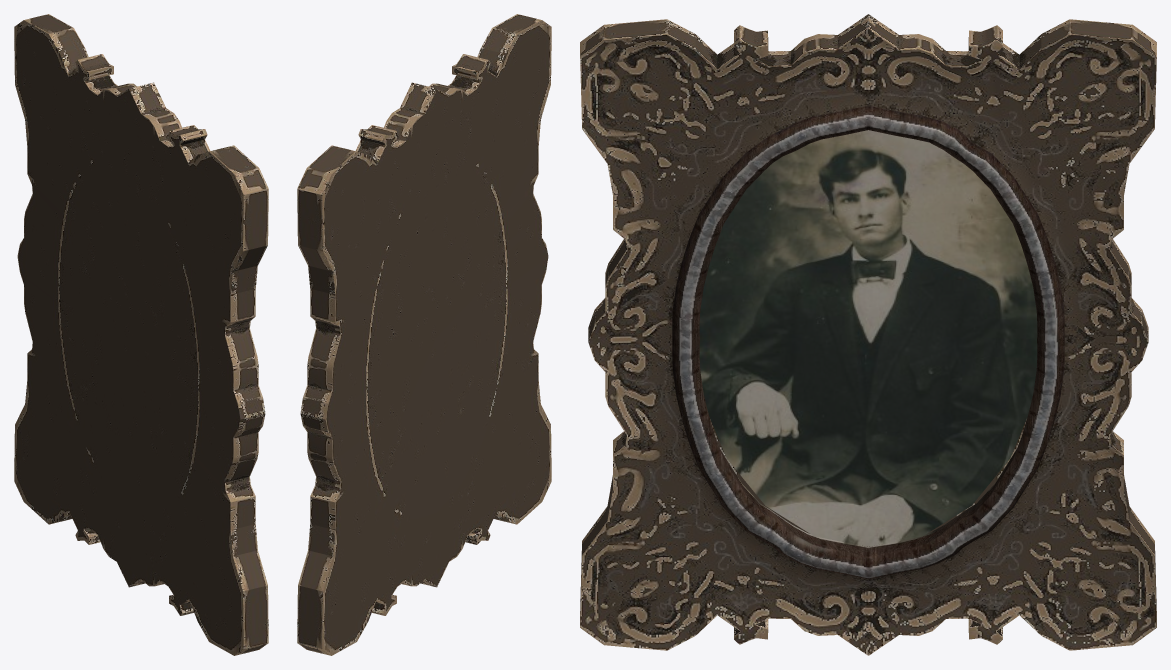
The model's file is frame3.gltf.
The picture shows the model from 3 angles, left to right: view 1: azimuth 30°, elevation 25°; view 2: azimuth 150°, elevation 25°; view 3: azimuth 270°, elevation 25°; orthographic projection. The views are drawn at different scales.
Parts seen in each view (by area): view 1: g; view 2: g; view 3: g.
Boxes of the visible parts, x1,y1,x2,y2 form: g: (14, 14, 268, 655); g: (297, 14, 551, 655); g: (580, 14, 1156, 655).
Bounding box in the file's own units: 0.1363 × 2 × 1.67.
Materials: 1 (1 with a texture image).
